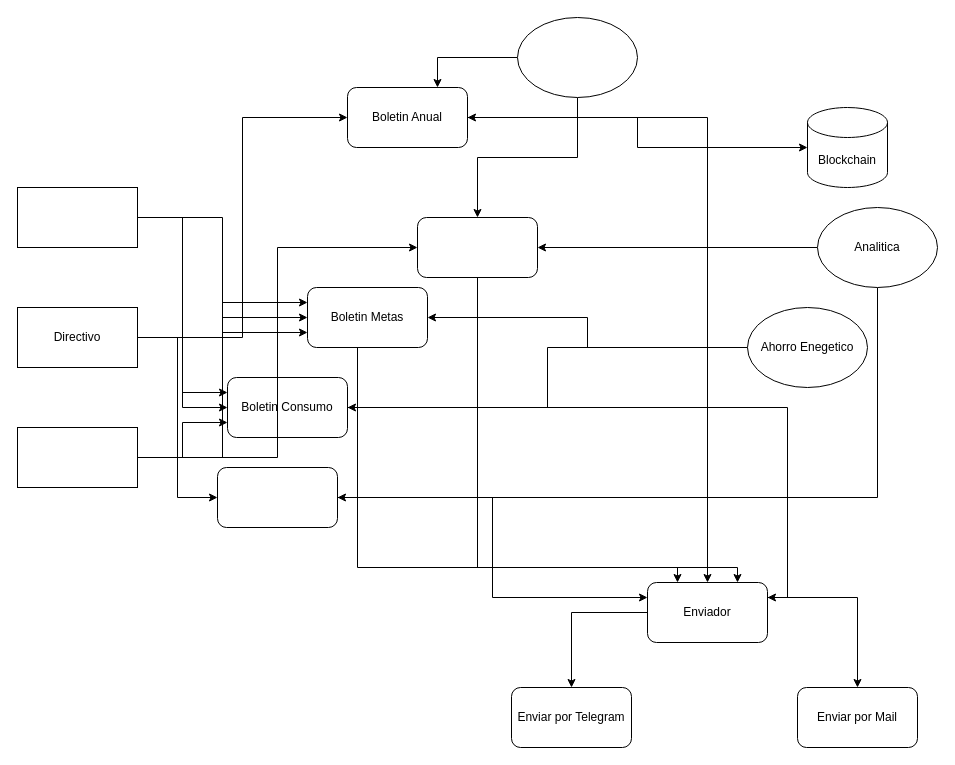
This 955x765 diagram has some shape labels left out. Each missing label, with the centre of its shape:
"Alumno" goes at (77,457).
"Boletin para alumnos" goes at (477,247).
"Boletin Promedio" goes at (277,497).
"Padre" goes at (77,217).
"Portal" goes at (577,57).
